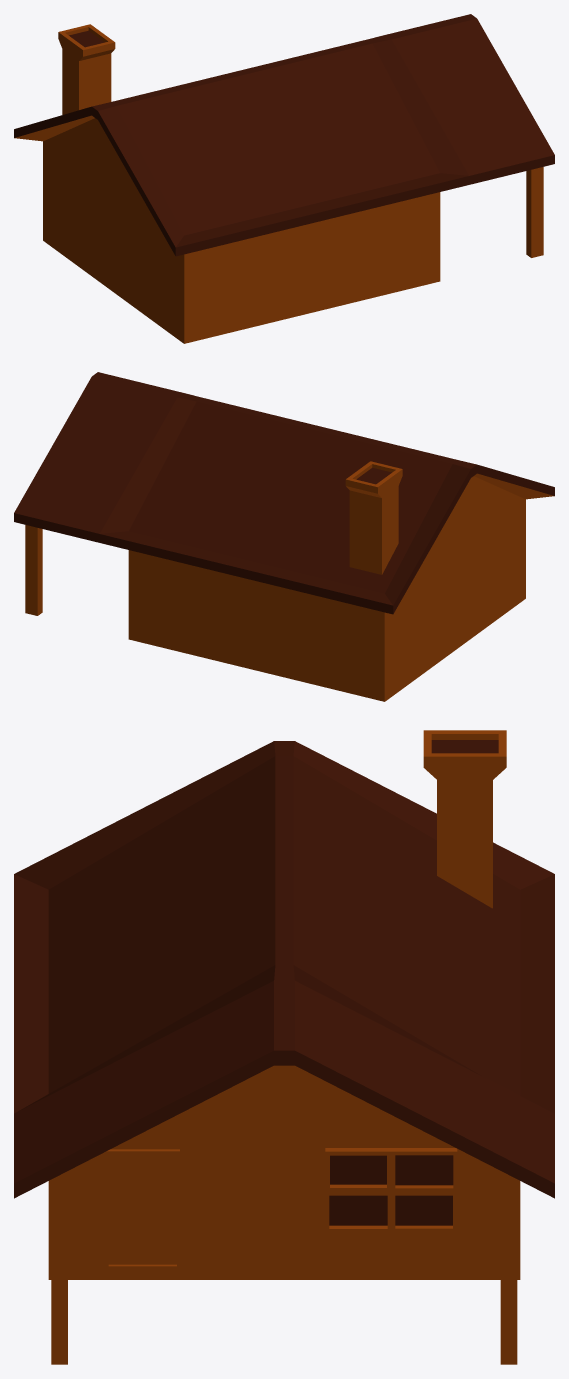
The model's file is lowpoly_2.fbx.
3 renders of one model, top to bottom at view 1: azimuth 30°, elevation 25°; view 2: azimuth 150°, elevation 25°; view 3: azimuth 270°, elevation 25°, orthographic. The views are drawn at different scales.
Visible parts, largest first — view 1: Cube; view 2: Cube; view 3: Cube.
Boxes of the visible parts, x1,y1,x2,y2 form: Cube: [14, 14, 554, 343]; Cube: [14, 372, 554, 701]; Cube: [14, 730, 554, 1364].
Bounding box in the file's own units: 1111 × 585 × 820.
